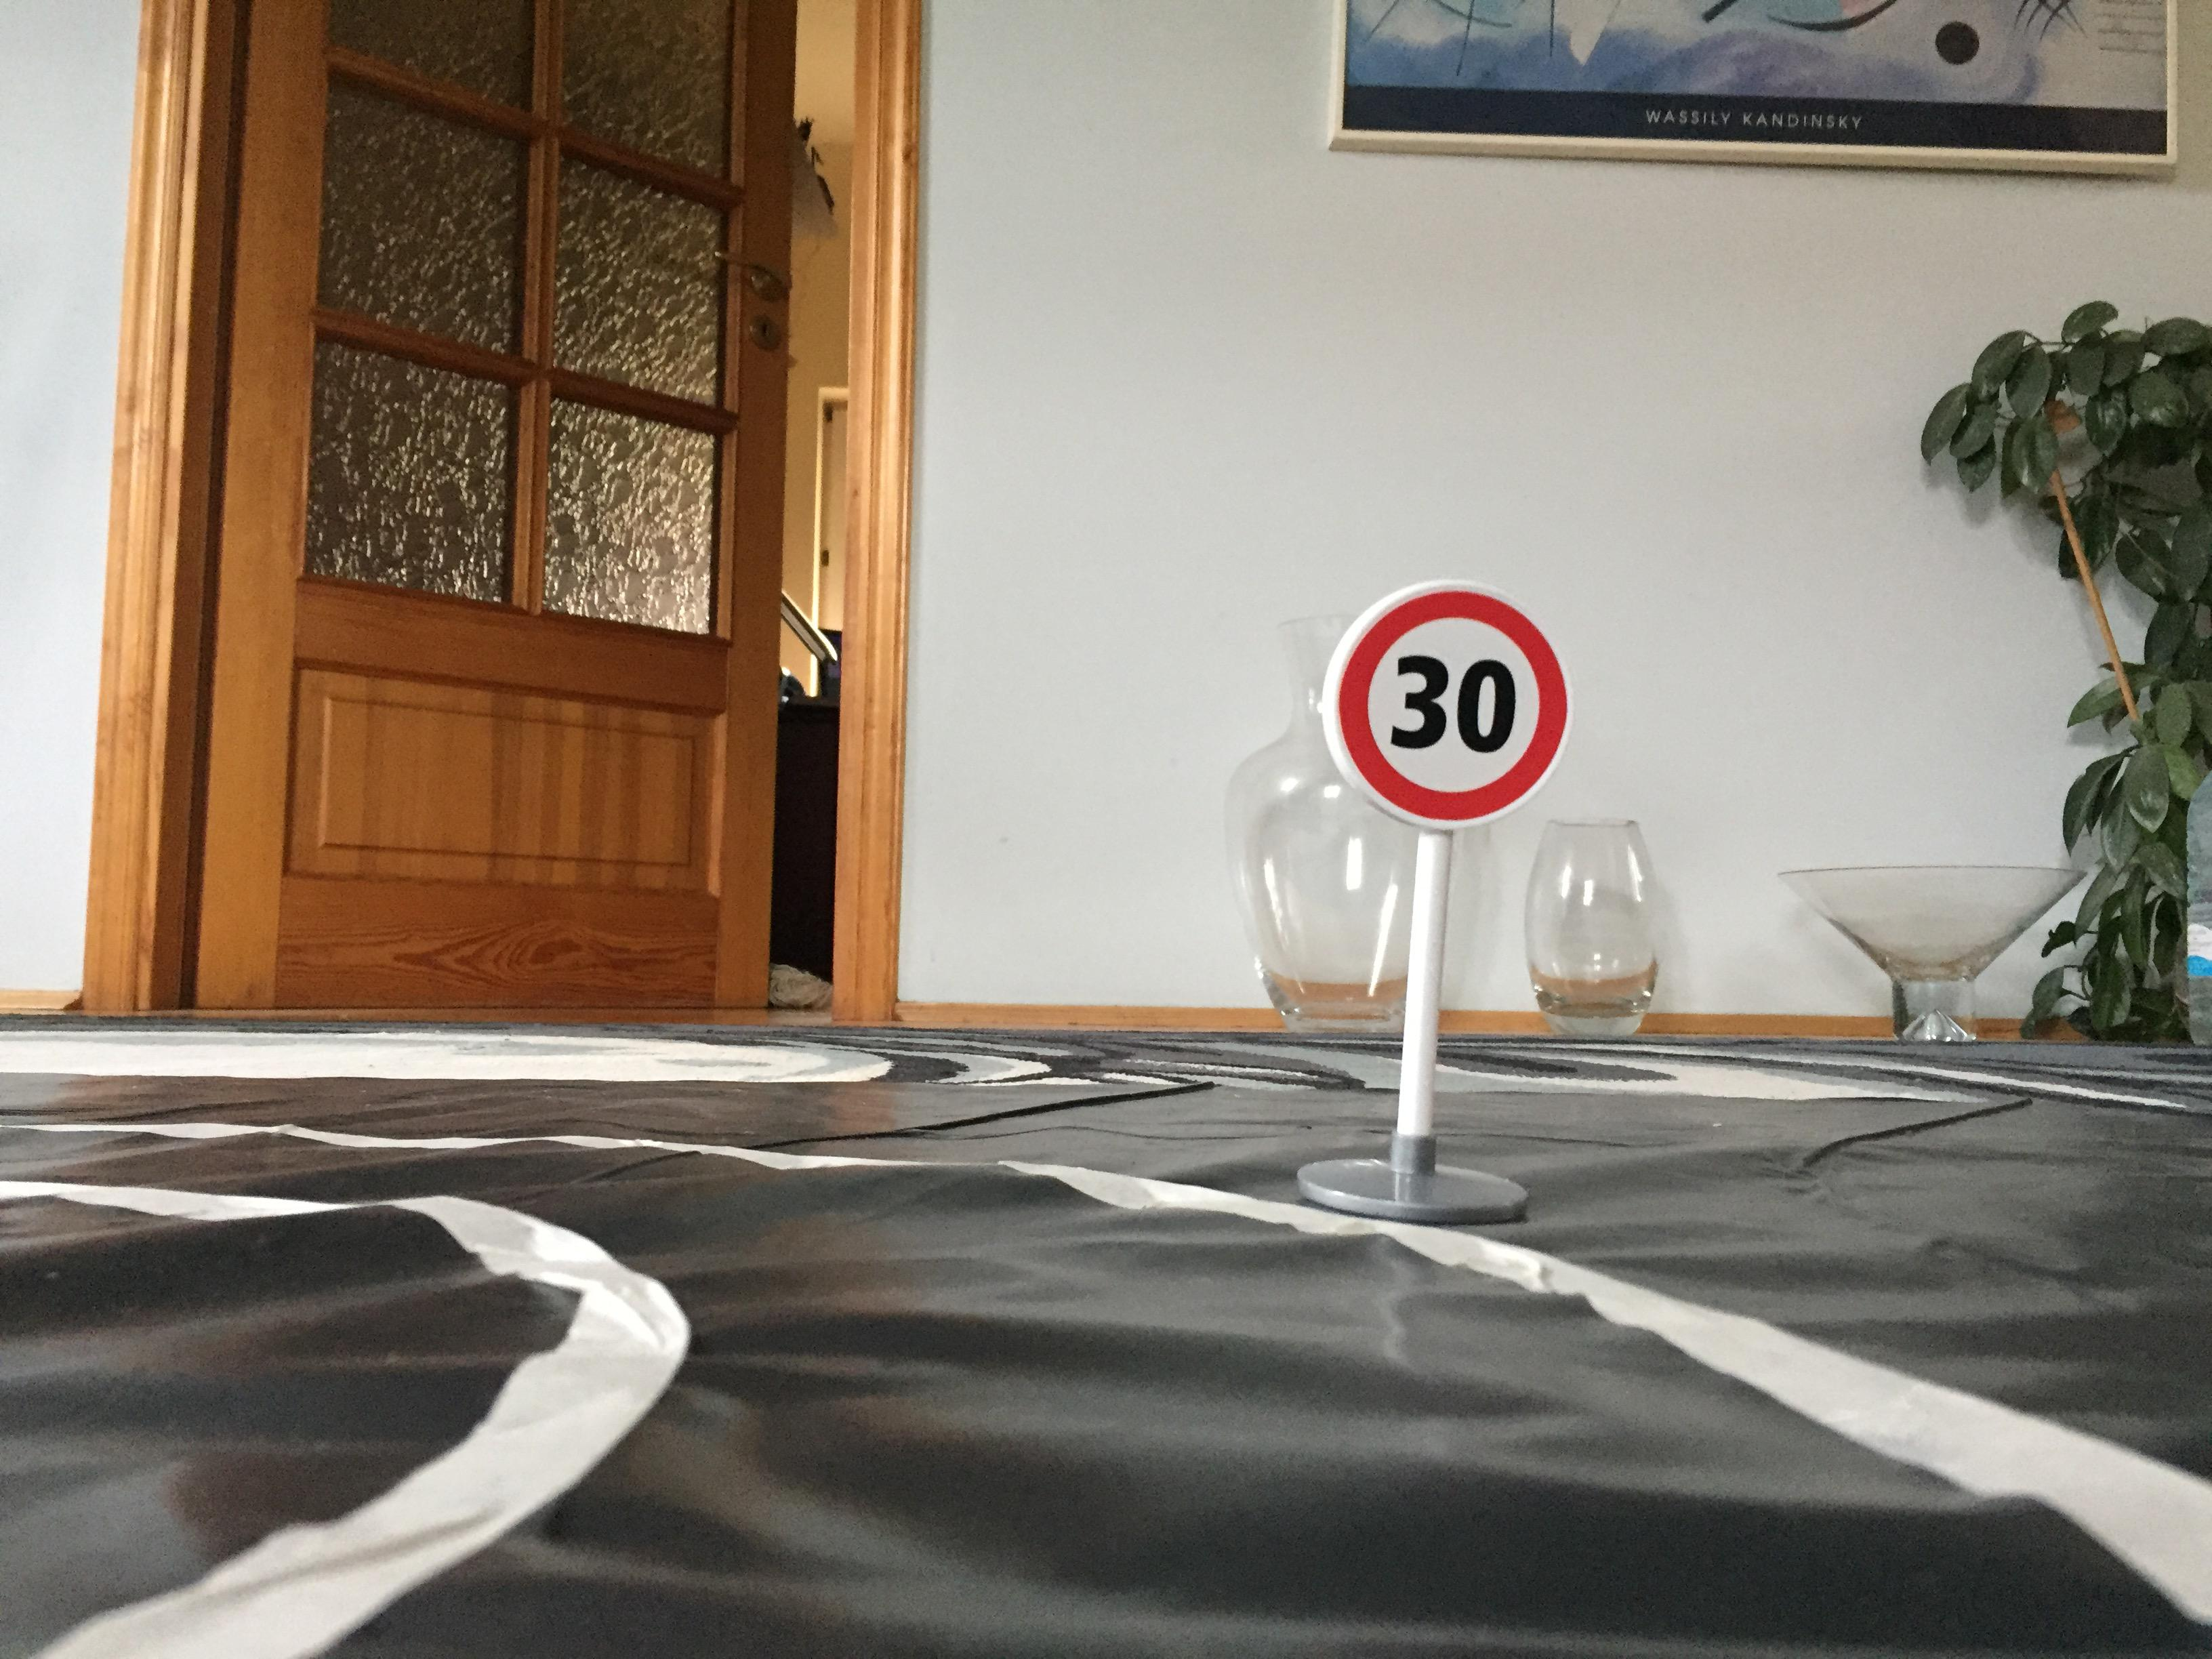speed: (1296, 565, 1588, 845)
